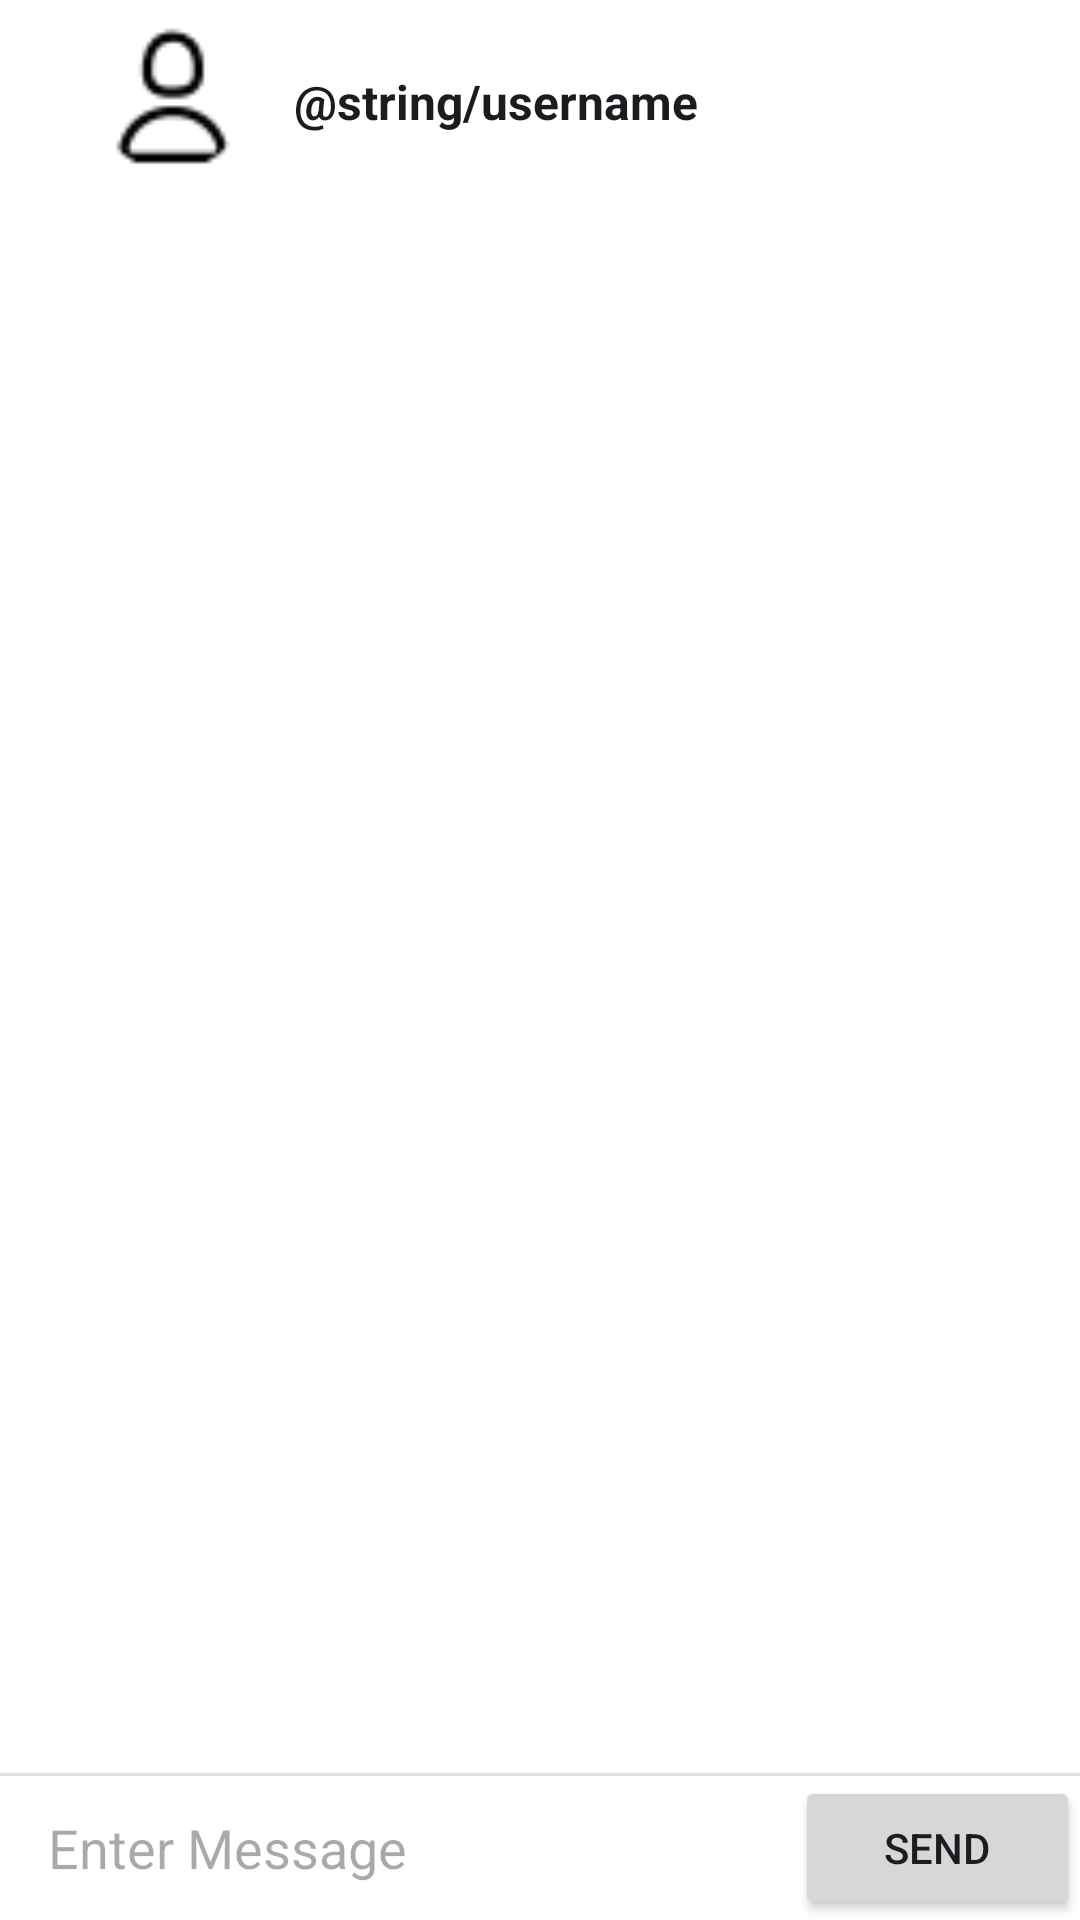

Icon bounding boxes for this 1080 x 1920 phone screenshot, format (x1, y1, x2, y2):
person: (116, 28, 229, 164)
